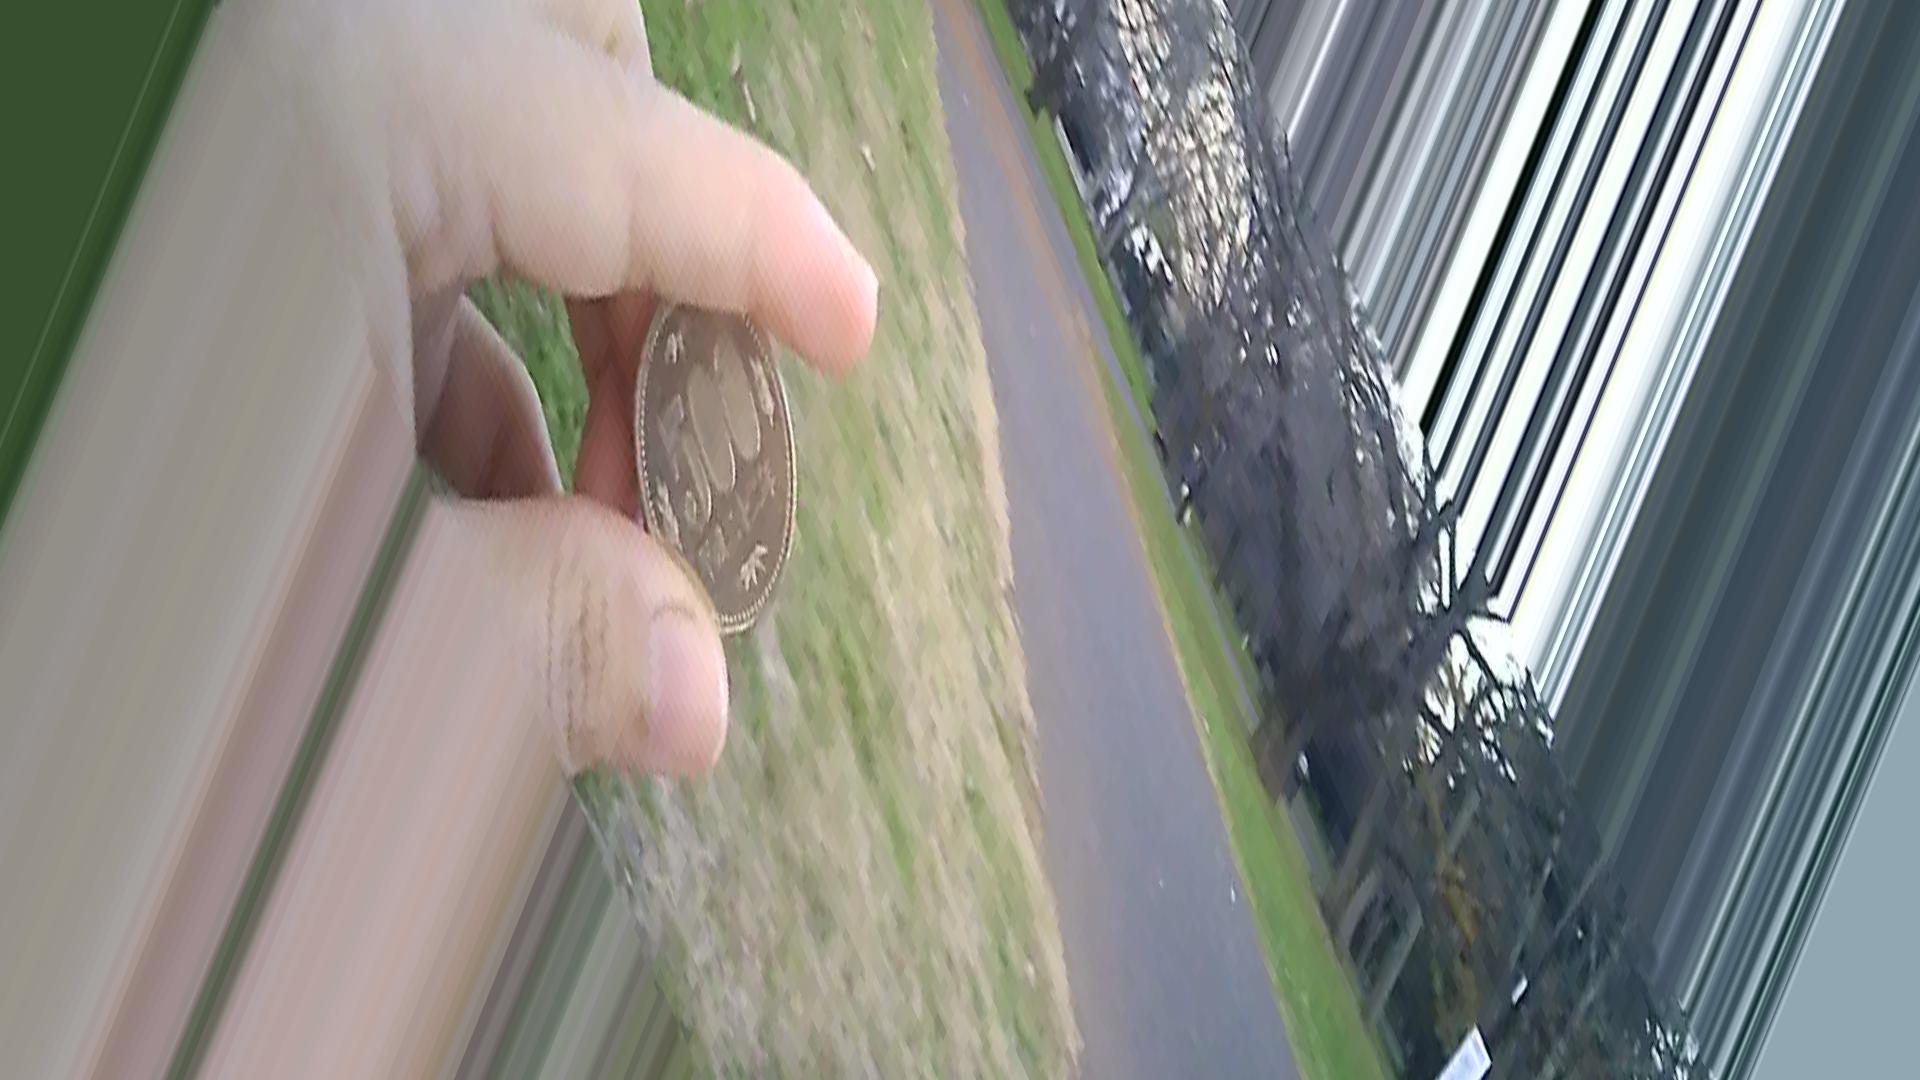500 Yen: (629, 274, 793, 654)
